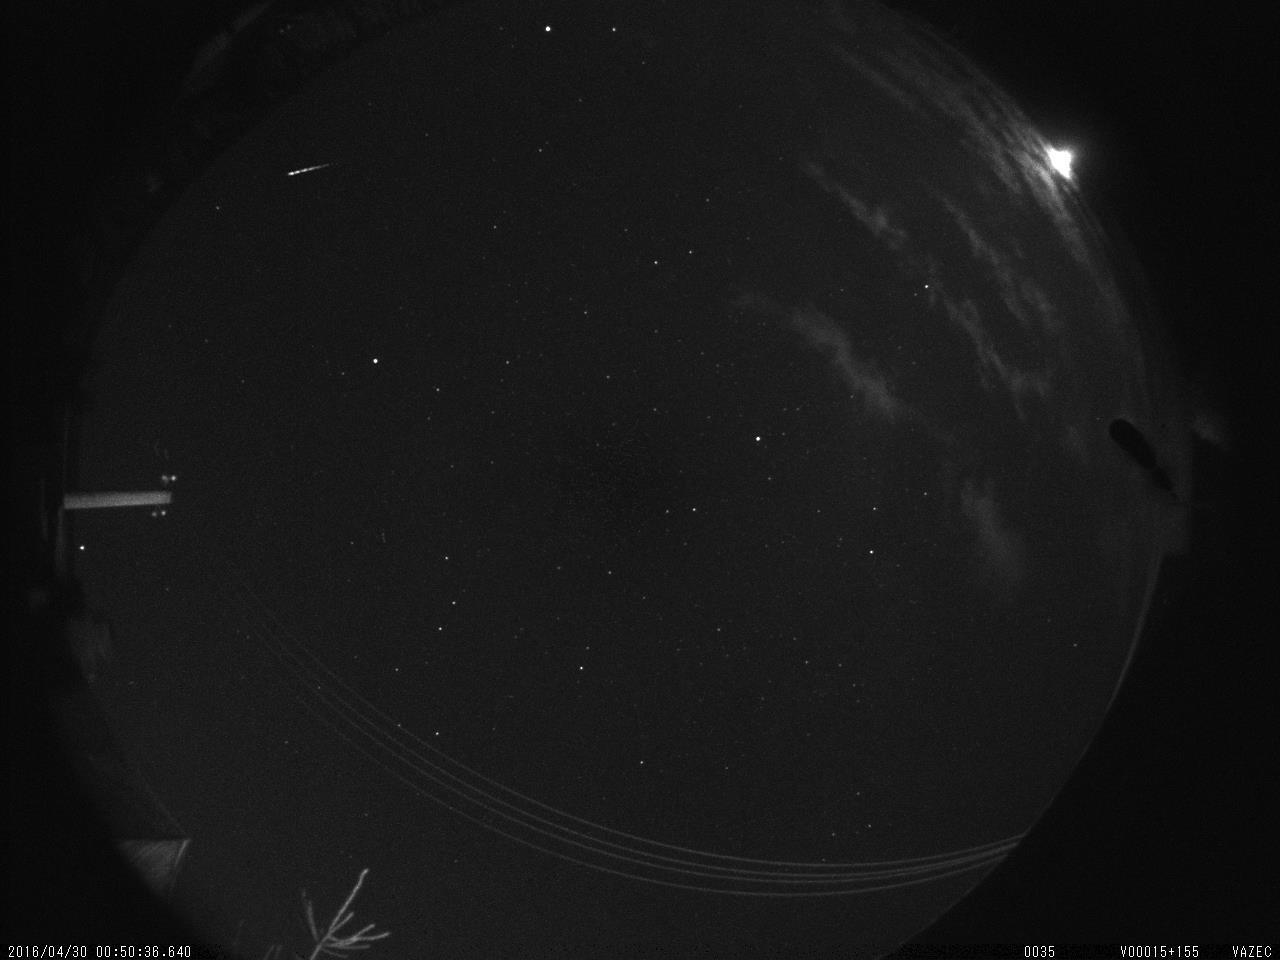Meteor: (280, 154, 338, 187)
